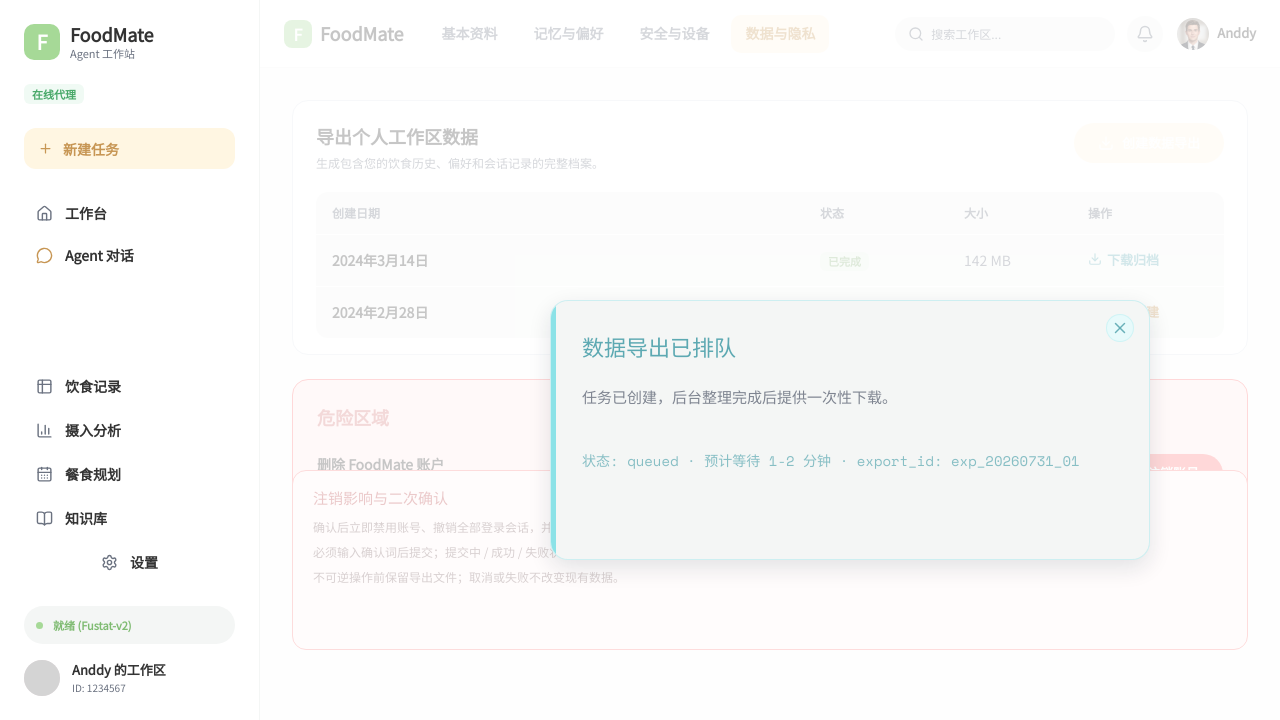
Scenario: ProfilePage › renders and dismisses the Figma export queued fixture
Check: the heading "数据导出已排队" is shown, box [582,330,736,362]
Check: the text "任务已创建，后台整理完成后提供一次性下载。" is shown, box [582,386,897,407]
Click the button named "关闭".
click(1120, 328)  # box [1106,314,1134,342]
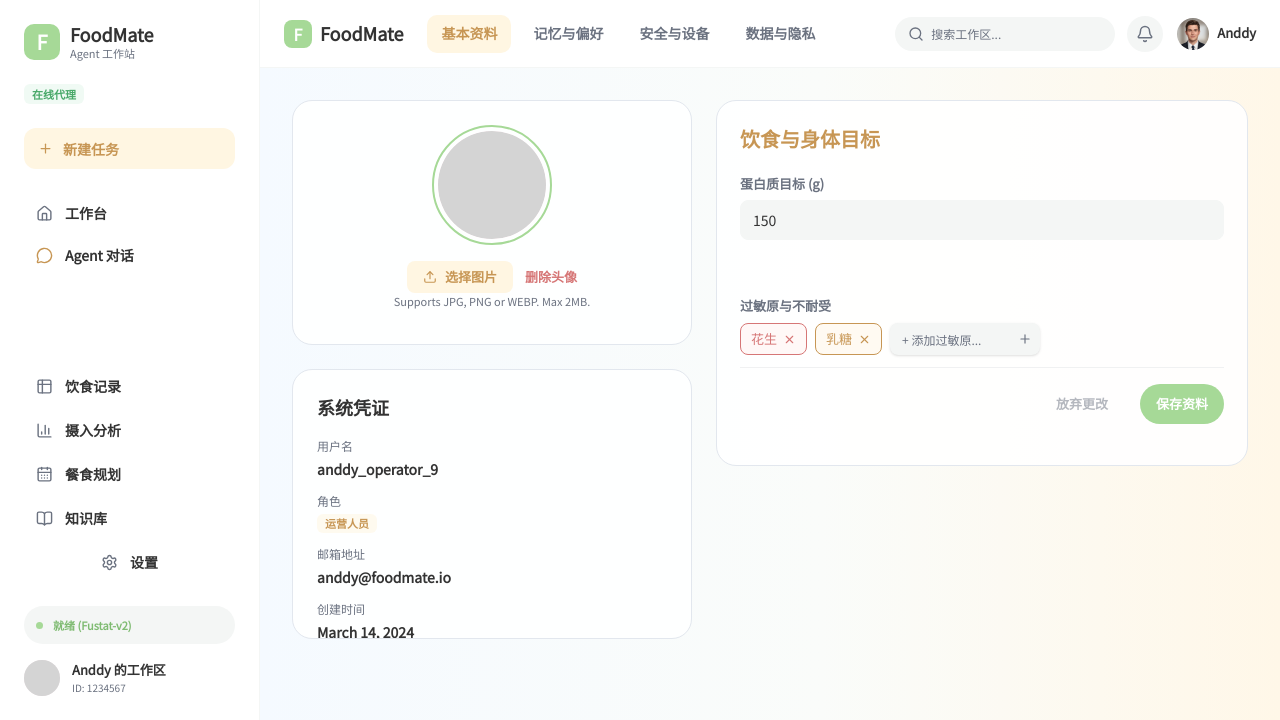
Check: the heading "数据导出已排队" is gone
